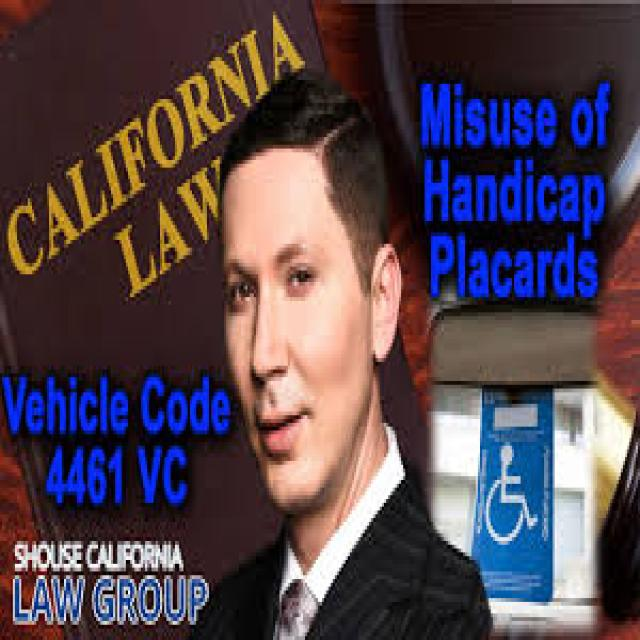car-handicap-placard: (486, 442, 540, 543)
